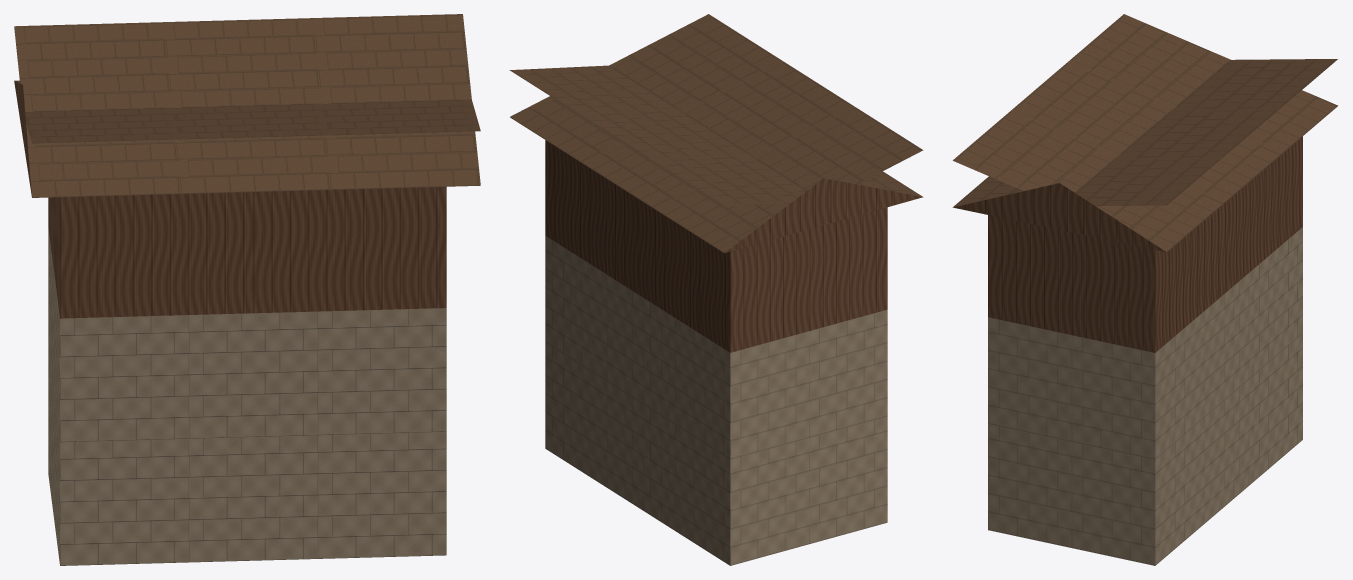
Rendered from bld_c-2_0_533.gltf.
The picture shows the model from 3 angles, left to right: view 1: azimuth 30°, elevation 25°; view 2: azimuth 150°, elevation 25°; view 3: azimuth 270°, elevation 25°; orthographic projection. The views are drawn at different scales.
Parts seen in each view (by area): view 1: bld_c-2_0_533; view 2: bld_c-2_0_533; view 3: bld_c-2_0_533.
Part boxes in pixels (bbox=[...]): bld_c-2_0_533: bbox=[14, 14, 480, 565]; bld_c-2_0_533: bbox=[509, 14, 923, 565]; bld_c-2_0_533: bbox=[952, 14, 1337, 565].
Size of the model in its own units: 8.76 by 8 by 7.46.
4 materials, 4 textured.
